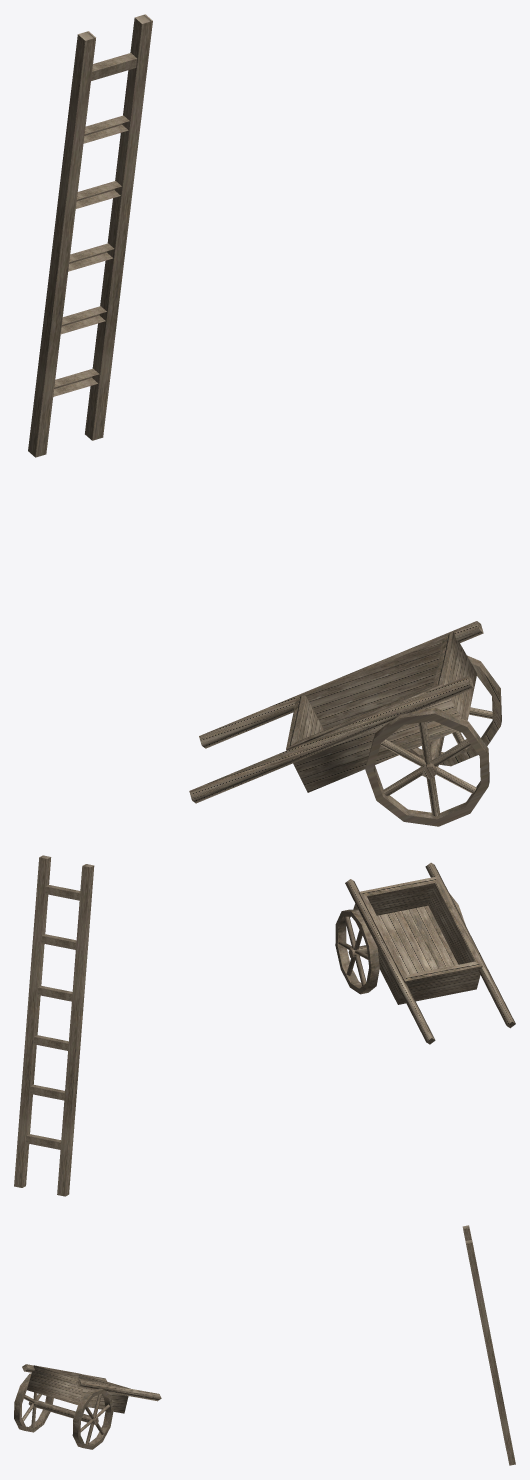
The model's file is kart_farmstead_c_1.dae.
The picture shows the model from 3 angles, top to bottom: view 1: azimuth 30°, elevation 25°; view 2: azimuth 150°, elevation 25°; view 3: azimuth 270°, elevation 25°; orthographic projection. The views are drawn at different scales.
Visible parts, largest first — view 1: objhand_cart_final01-Pivot; view 2: objhand_cart_final01-Pivot; view 3: objhand_cart_final01-Pivot.
Part boxes in pixels (bbox=[...]): objhand_cart_final01-Pivot: bbox=[28, 14, 501, 826]; objhand_cart_final01-Pivot: bbox=[14, 855, 515, 1196]; objhand_cart_final01-Pivot: bbox=[14, 1225, 515, 1465].
Size of the model in its own units: 5.43 by 14.51 by 7.18.
